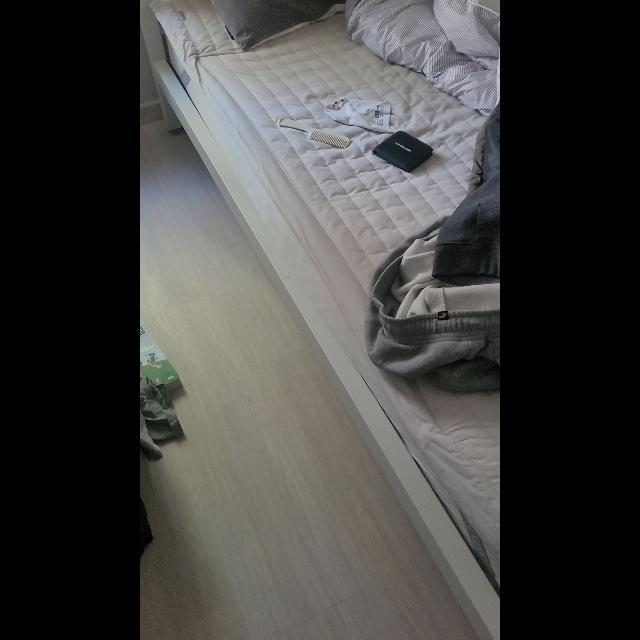COMB: (276, 118, 352, 148)
Glasses cleaning cloth: (323, 98, 392, 134)
WALLET: (373, 131, 433, 173)
